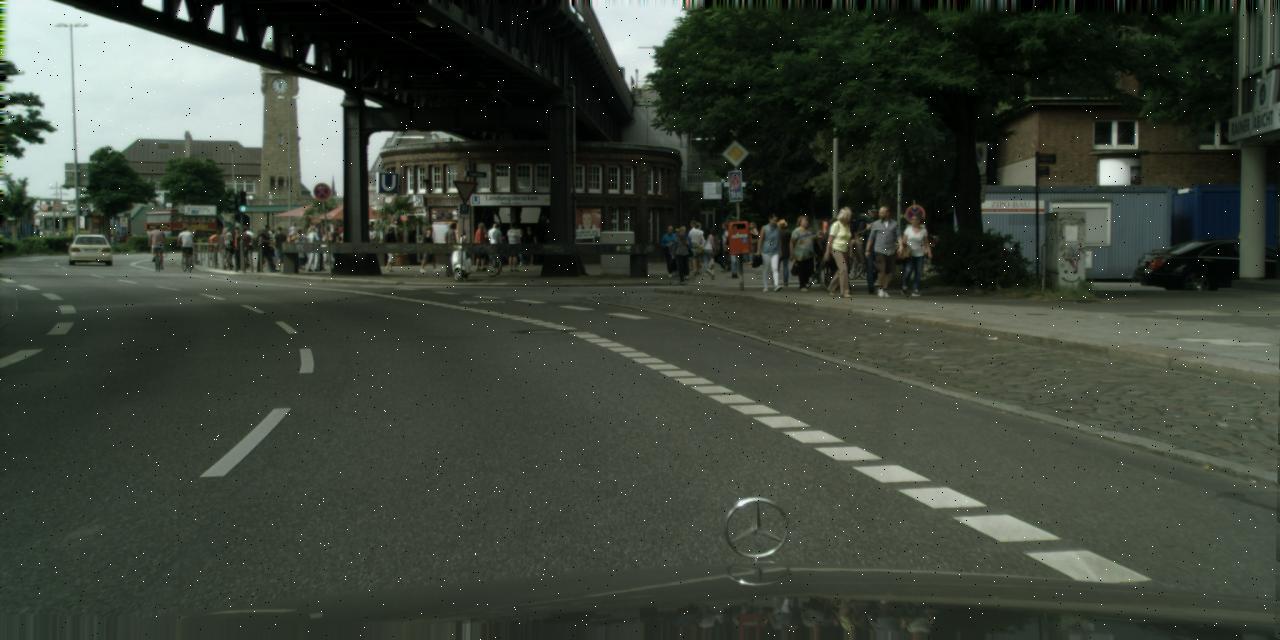ped: (825, 206, 861, 296), (866, 206, 902, 296), (856, 203, 890, 288), (827, 208, 860, 291), (896, 214, 929, 295), (756, 212, 788, 290), (789, 214, 820, 292), (768, 218, 794, 283), (812, 221, 836, 280), (720, 219, 744, 277), (670, 228, 692, 282), (503, 221, 524, 272), (687, 222, 707, 274), (684, 220, 704, 271), (661, 224, 681, 274), (672, 226, 692, 276), (442, 221, 462, 269), (256, 224, 276, 271), (716, 222, 736, 268), (471, 222, 490, 270), (440, 222, 459, 268), (303, 224, 322, 270), (698, 226, 716, 273), (308, 222, 326, 266), (272, 226, 290, 270), (381, 226, 398, 272), (421, 228, 439, 271), (705, 228, 723, 270), (489, 222, 506, 266), (228, 225, 245, 268), (484, 222, 502, 262), (744, 222, 761, 262), (319, 226, 335, 267), (150, 223, 166, 264), (240, 226, 256, 266), (292, 228, 308, 268), (220, 228, 236, 267), (512, 228, 528, 266), (363, 222, 378, 262), (521, 226, 536, 266), (224, 227, 239, 267), (476, 226, 491, 265), (178, 227, 193, 264), (670, 228, 684, 266), (329, 226, 343, 263), (500, 228, 514, 264), (337, 227, 351, 261), (188, 229, 202, 263), (260, 225, 274, 258), (456, 230, 469, 262), (216, 229, 228, 262), (209, 231, 222, 261), (289, 222, 297, 242), (32, 225, 40, 244), (115, 230, 126, 243)
